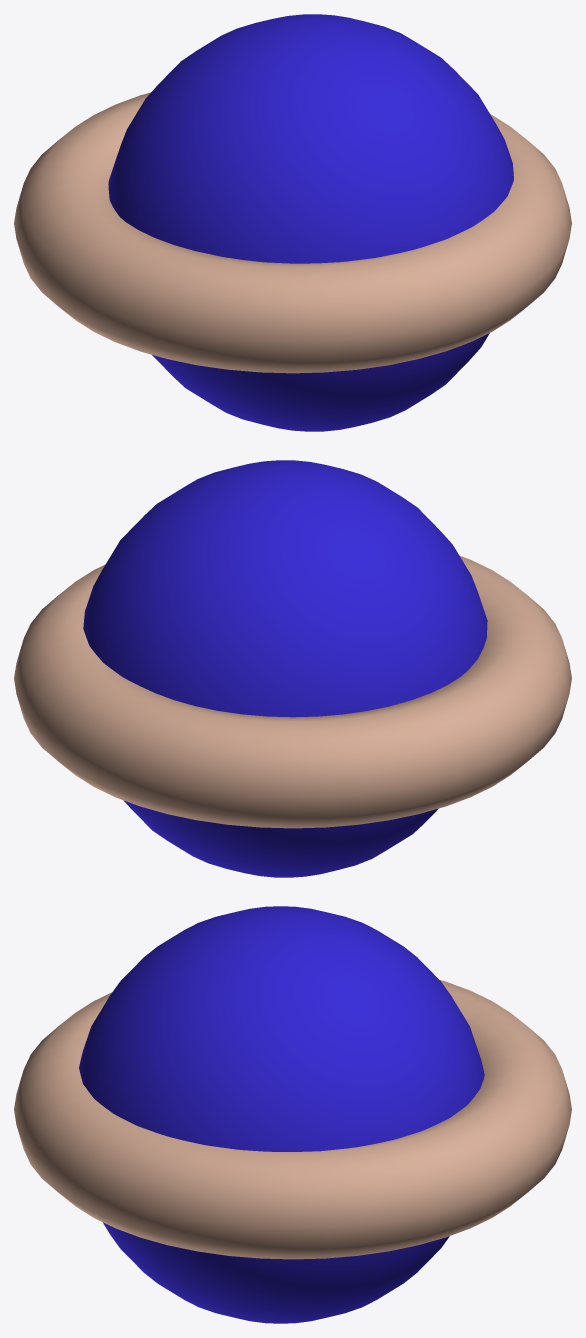
The model's file is HackSaturn2.fbx.
The picture shows the model from 3 angles, top to bottom: view 1: azimuth 30°, elevation 25°; view 2: azimuth 150°, elevation 25°; view 3: azimuth 270°, elevation 25°; orthographic projection.
Visible parts, largest first — view 1: Sphere, Torus; view 2: Sphere, Torus; view 3: Sphere, Torus.
Boxes of the visible parts, x1=… form: Sphere: x1=108, y1=14, x2=513, y2=431; Torus: x1=14, y1=92, x2=571, y2=373; Sphere: x1=83, y1=460, x2=487, y2=877; Torus: x1=14, y1=556, x2=571, y2=828; Sphere: x1=79, y1=906, x2=484, y2=1323; Torus: x1=14, y1=980, x2=571, y2=1259.
Size of the model in its own units: 711 by 533 by 711.
